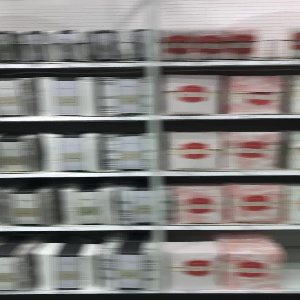void: (253, 1, 292, 60)
